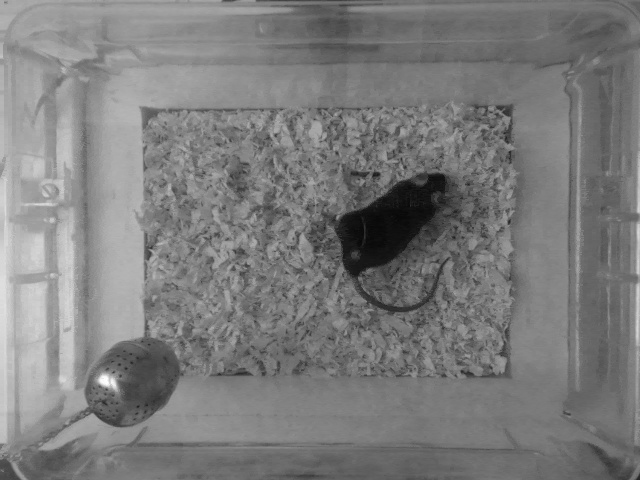mice: (323, 167, 448, 314)
